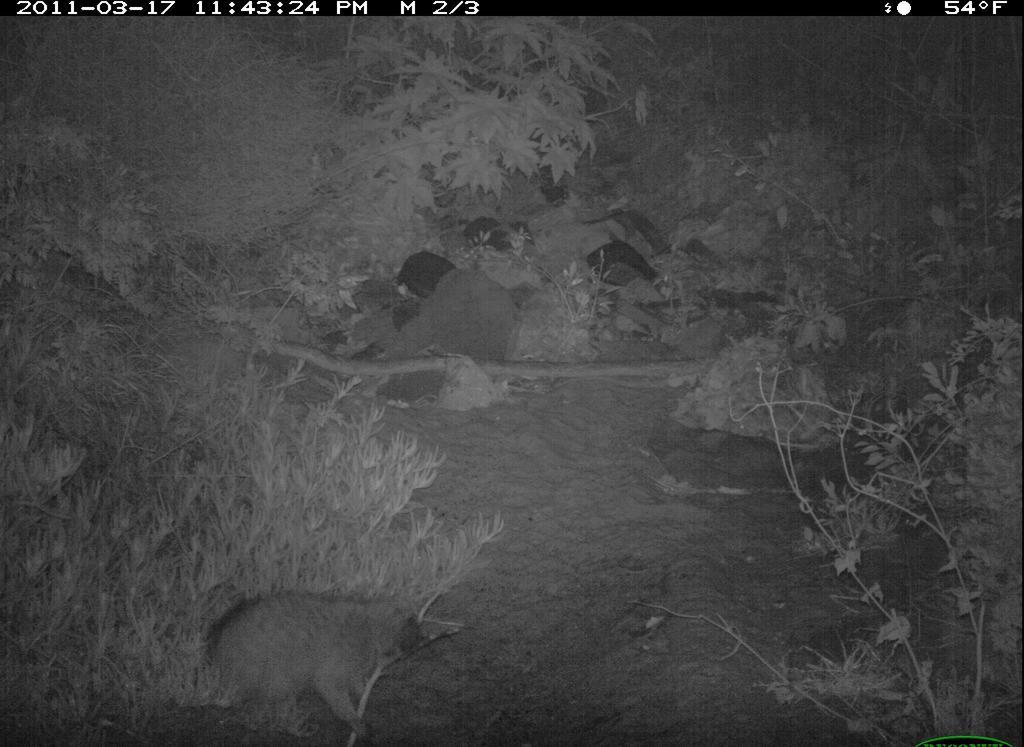raccoon: (182, 574, 438, 743)
